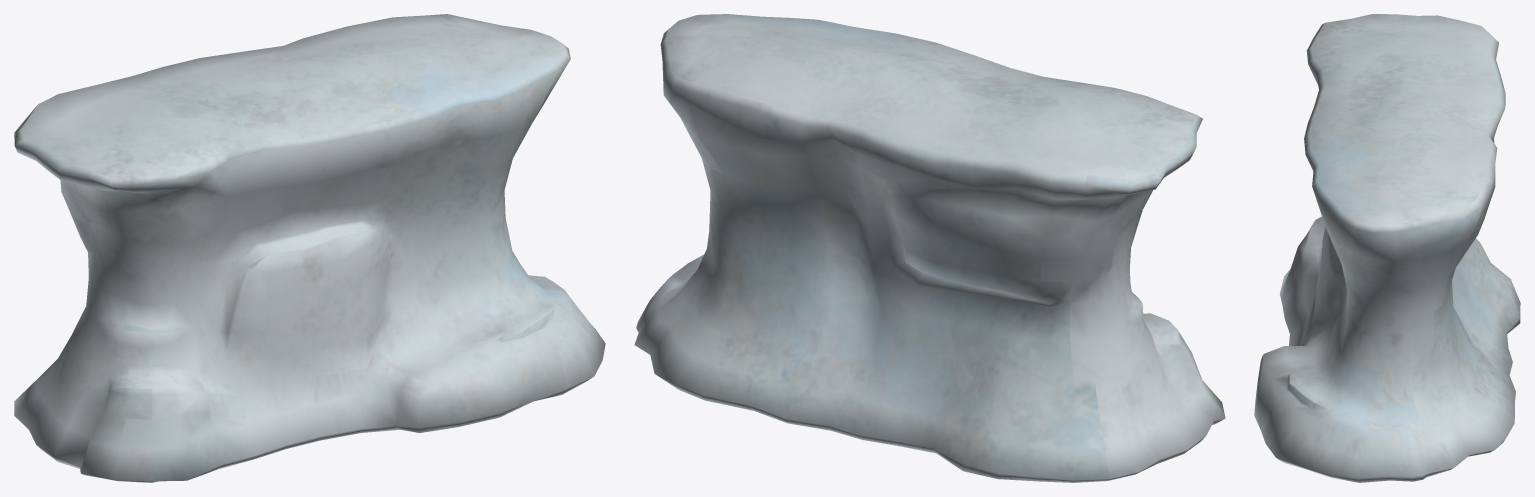
File: P_RockDesert_CliffA06.obj
The picture shows the model from 3 angles, left to right: view 1: azimuth 30°, elevation 25°; view 2: azimuth 150°, elevation 25°; view 3: azimuth 270°, elevation 25°; orthographic projection. The views are drawn at different scales.
Size of the model in its own units: 94.4 by 52.74 by 47.37.
